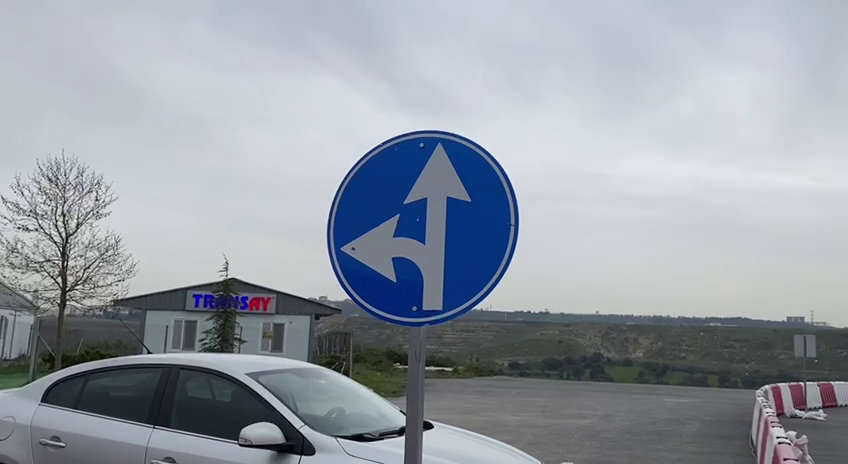forwardAndLeft: (322, 127, 524, 330)
